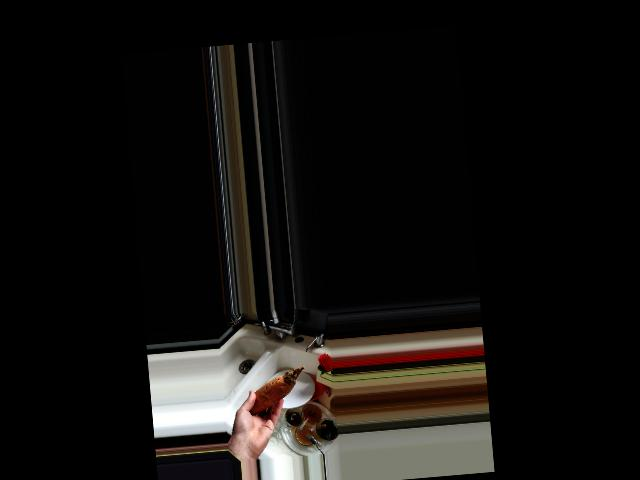sweet_potato: (241, 366, 309, 419)
